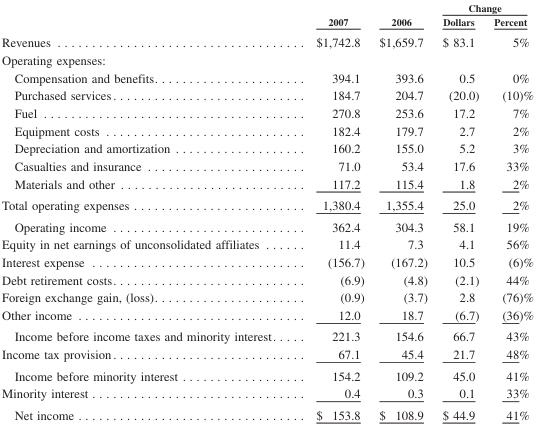table: (1, 1, 532, 421)
table column: (1, 1, 295, 421), (295, 1, 371, 421), (371, 1, 434, 421), (434, 1, 485, 421), (485, 1, 532, 421)
table column header: (1, 1, 532, 30)
table projected row header: (1, 50, 532, 68)
table row: (1, 194, 532, 215), (1, 30, 532, 50), (1, 174, 532, 194), (1, 215, 532, 235), (1, 305, 532, 325), (1, 344, 532, 364), (1, 364, 532, 384), (1, 325, 532, 344), (1, 384, 532, 403), (1, 50, 532, 68), (1, 68, 532, 86), (1, 103, 532, 121), (1, 121, 532, 139), (1, 156, 532, 174), (1, 252, 532, 270), (1, 270, 532, 288), (1, 403, 532, 421), (1, 86, 532, 103), (1, 139, 532, 156), (1, 235, 532, 252), (1, 288, 532, 305), (1, 14, 532, 30), (1, 1, 532, 14)
table spanning cell: (295, 1, 371, 30), (371, 1, 434, 30), (434, 1, 532, 14)
